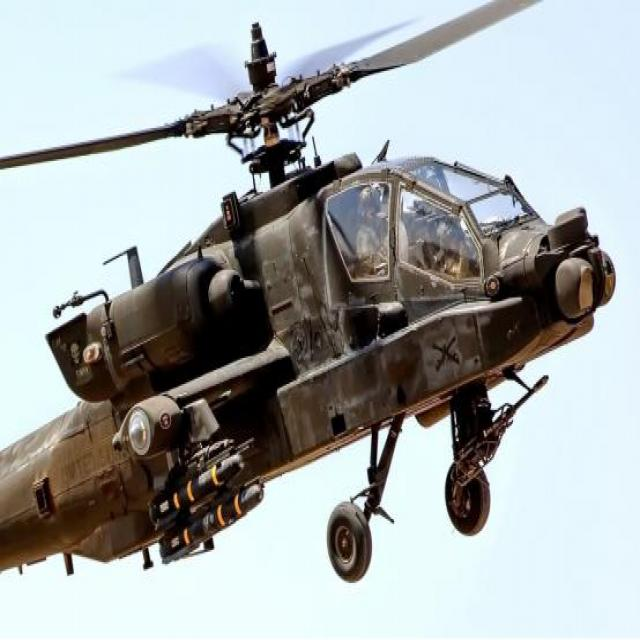MIL_HELO: (0, 6, 640, 612)
